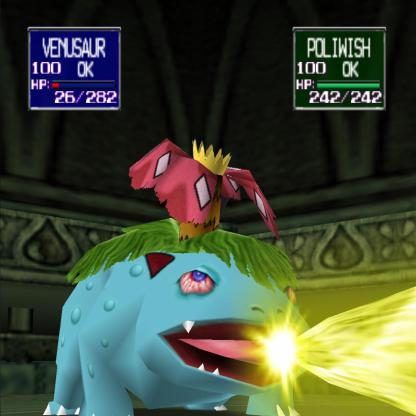Venusaur: (30, 142, 415, 416)
